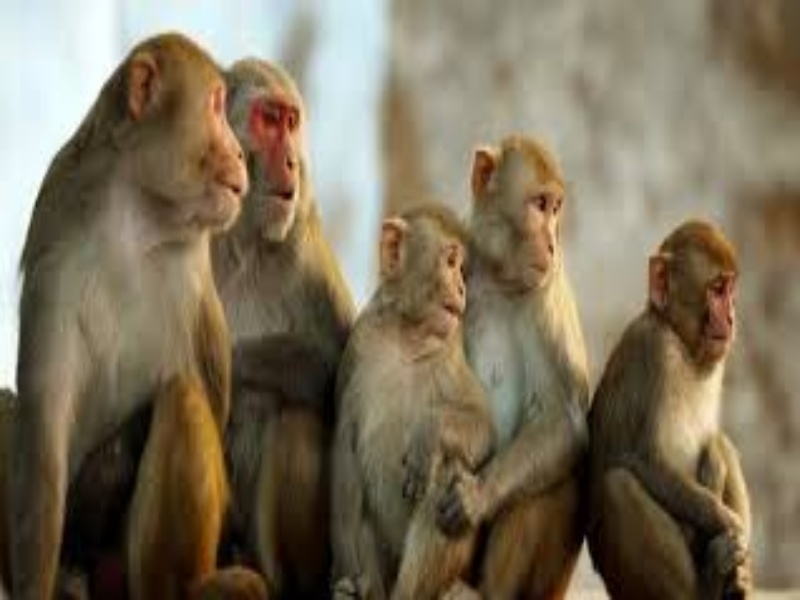monkey: (38, 36, 246, 416), (591, 214, 751, 595), (222, 52, 359, 372), (367, 190, 481, 537), (453, 136, 581, 349)
